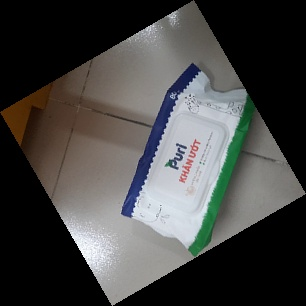Puri Trang: (120, 60, 258, 259)
